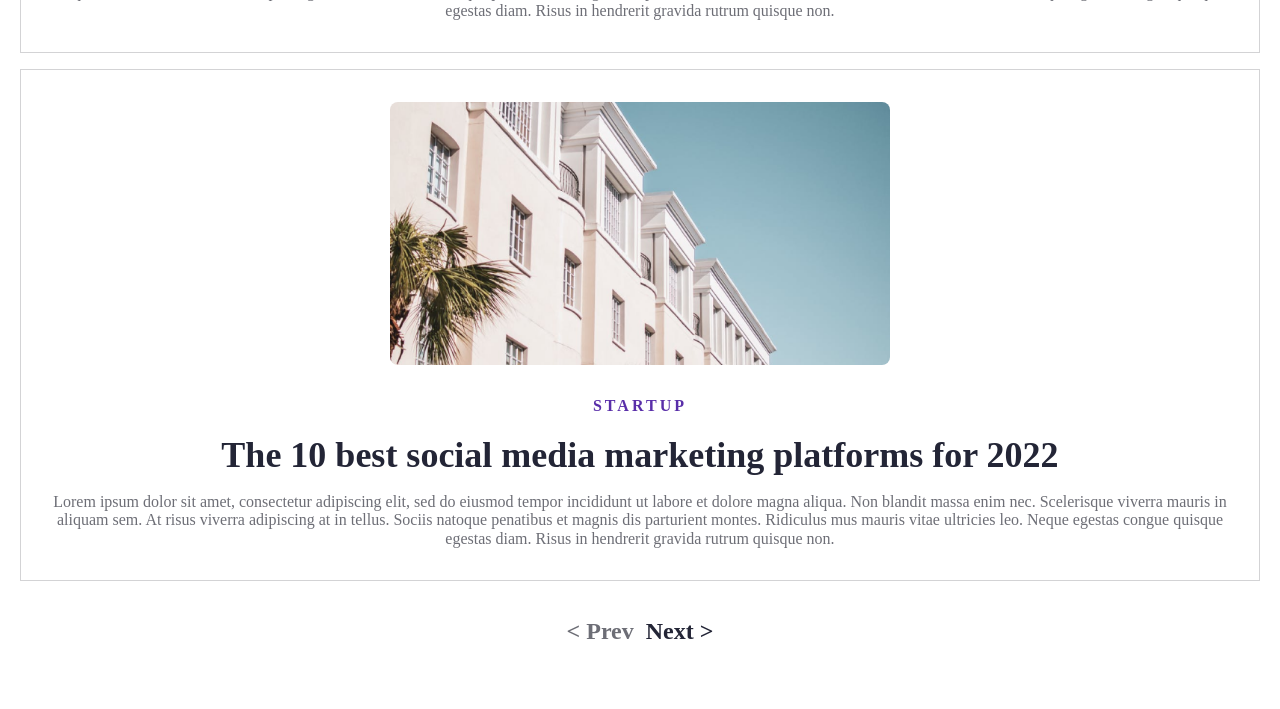
BlogCards › should disable the next button on the last page
(page scrolled)
Click the button "Next >" at (680, 632), box [640,617,720,647]
(page scrolled)
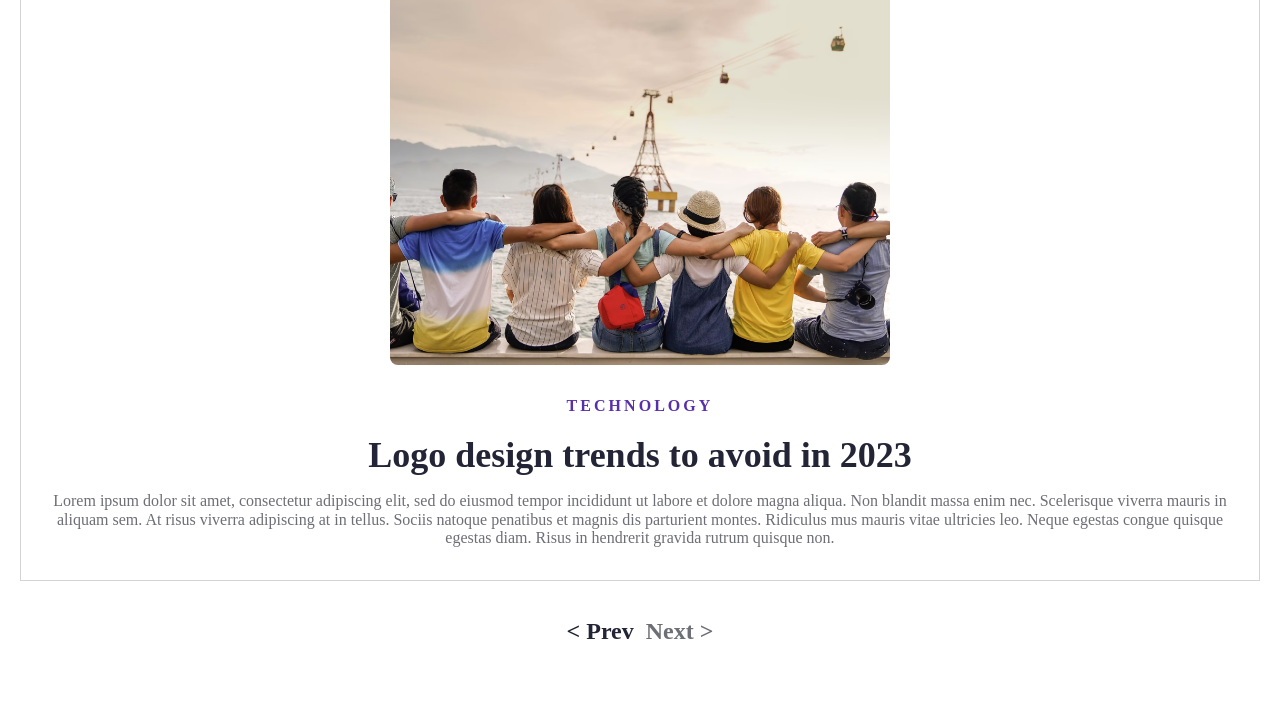
Check: the button "Next >" is disabled, box [640,617,720,646]
